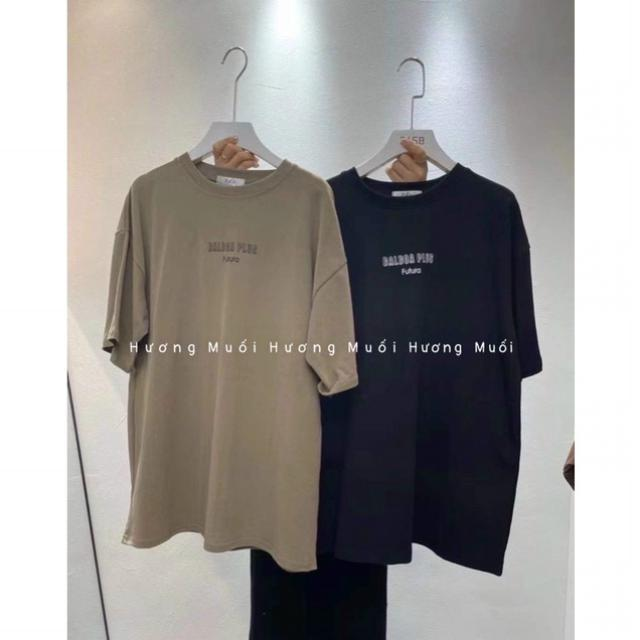Shirt: (104, 147, 356, 585), (319, 152, 546, 576)
